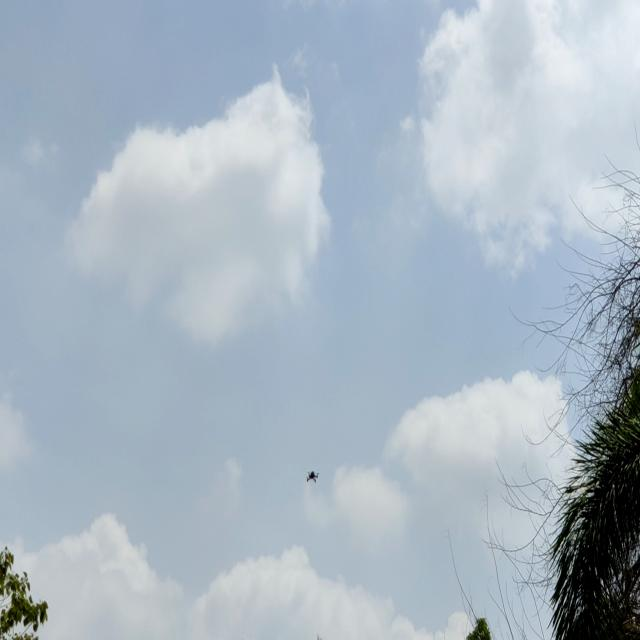drone: (303, 466, 322, 484)
